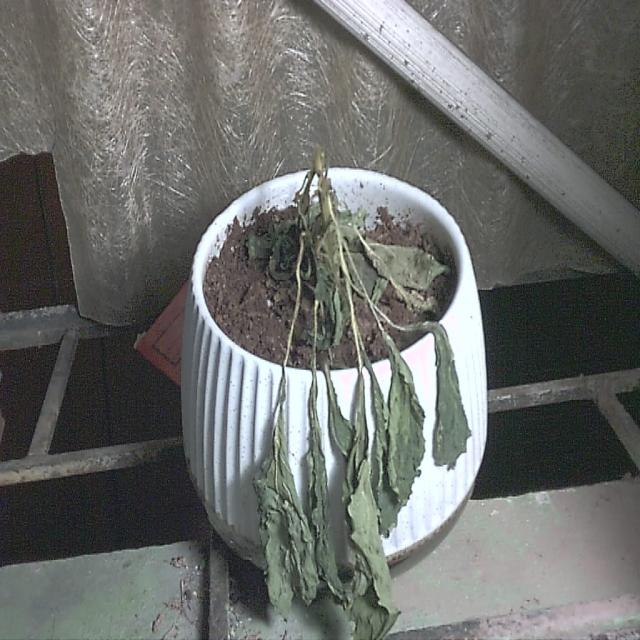Leaf: (341, 378, 398, 636), (255, 402, 316, 615), (433, 331, 473, 474), (386, 361, 424, 506)
